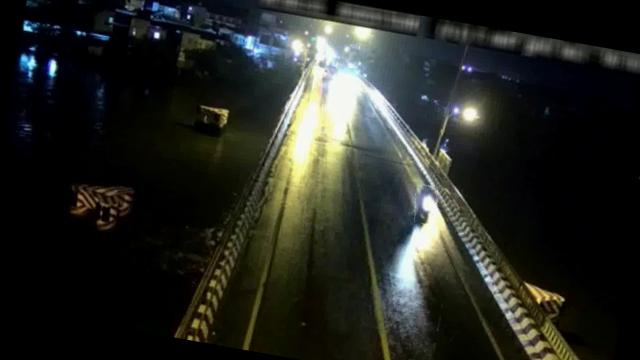Bike: (411, 184, 440, 226)
